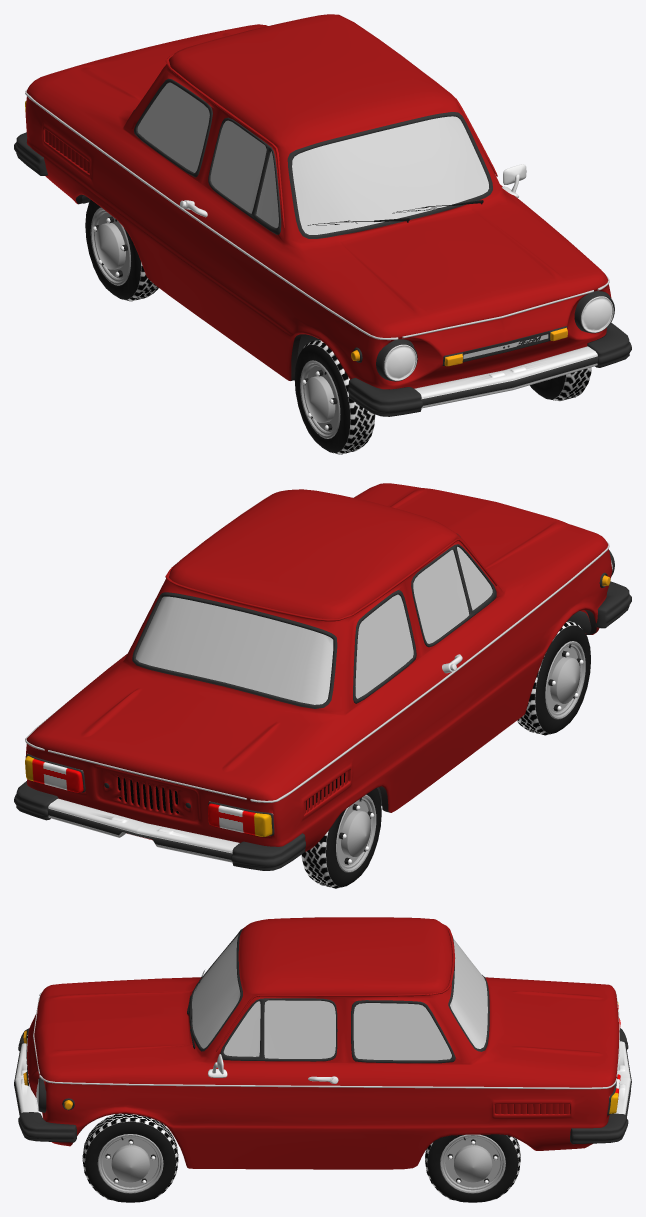
Rendered from OldModelZAZ.fbx.
3 renders of one model, top to bottom at view 1: azimuth 30°, elevation 25°; view 2: azimuth 150°, elevation 25°; view 3: azimuth 270°, elevation 25°, orthographic. The views are drawn at different scales.
Visible parts, largest first — view 1: Empty_Mesh; view 2: Empty_Mesh; view 3: Empty_Mesh.
Boxes of the visible parts, box(x1,y1,x2,y2) form: Empty_Mesh: box(14, 14, 631, 454); Empty_Mesh: box(14, 483, 631, 888); Empty_Mesh: box(14, 917, 631, 1202).
Bounding box in the file's own units: 114 × 101 × 269.
